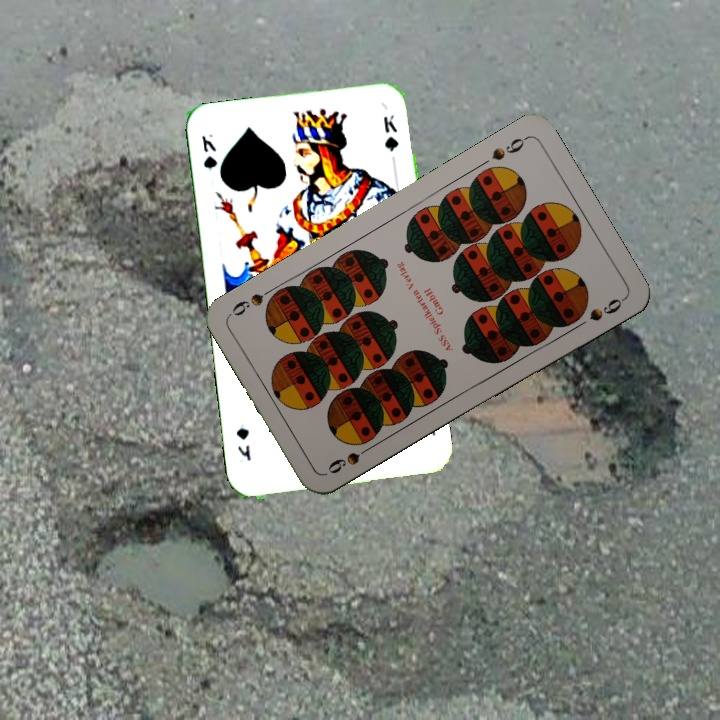GK: (197, 129, 220, 174)
S9: (323, 440, 377, 477), (487, 132, 530, 163)
